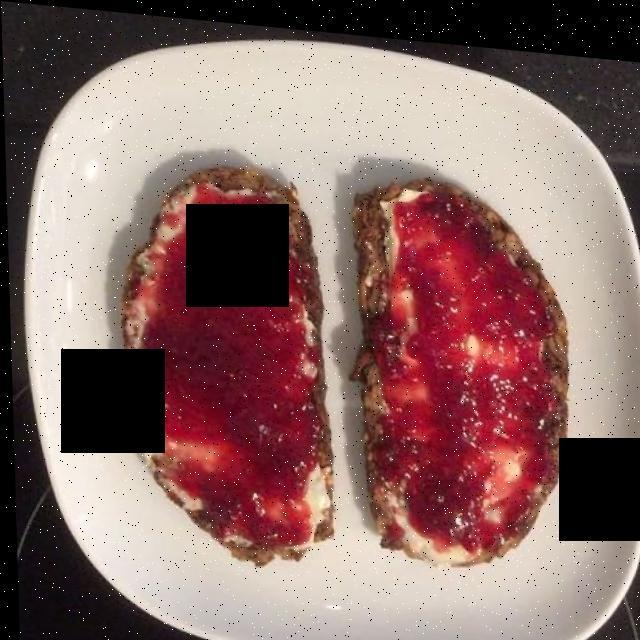bread: (350, 159, 579, 571), (116, 155, 341, 572)
jam: (164, 208, 310, 530), (396, 210, 527, 542)
